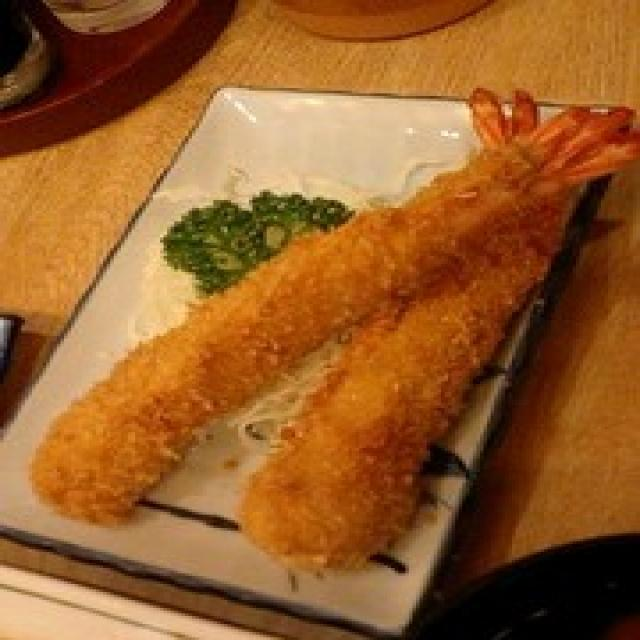炸货点心: (21, 64, 640, 592)
熟制海鲜: (21, 64, 640, 592)
